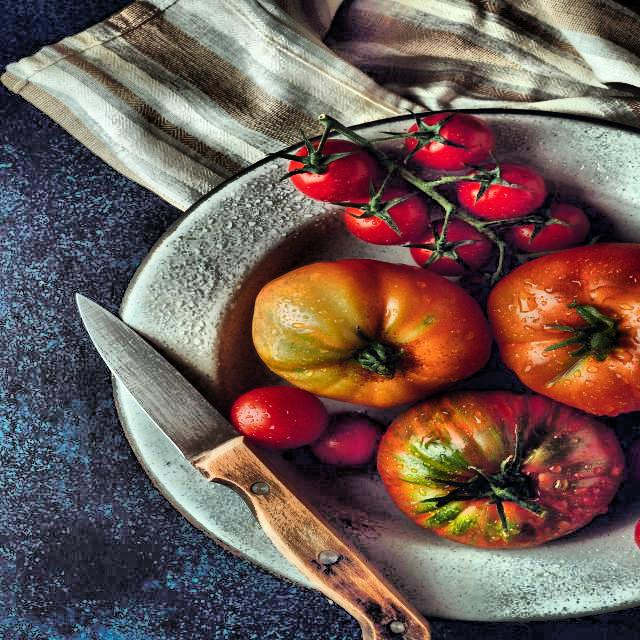knife: (70, 291, 442, 640)
